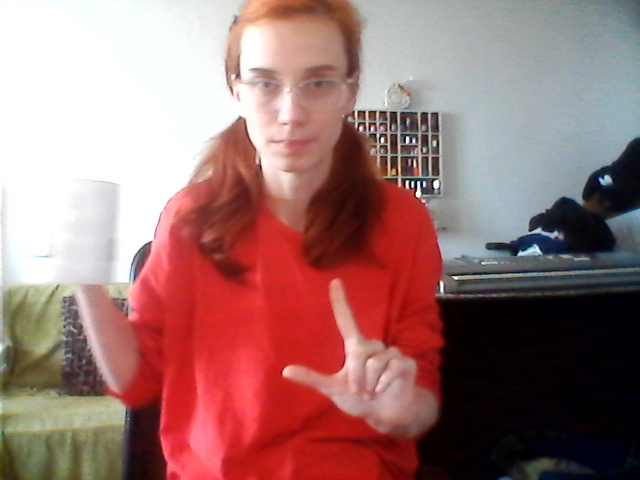l: (275, 275, 417, 434)
